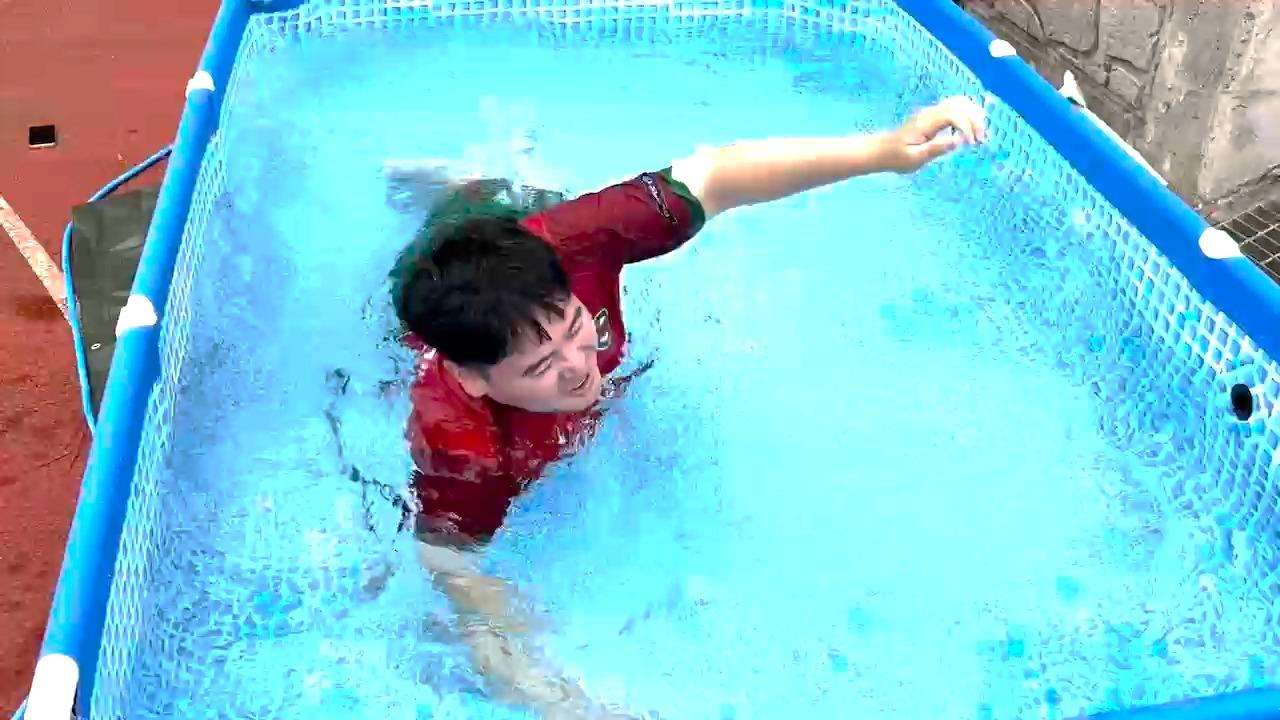Swimming: (295, 47, 1012, 696)
